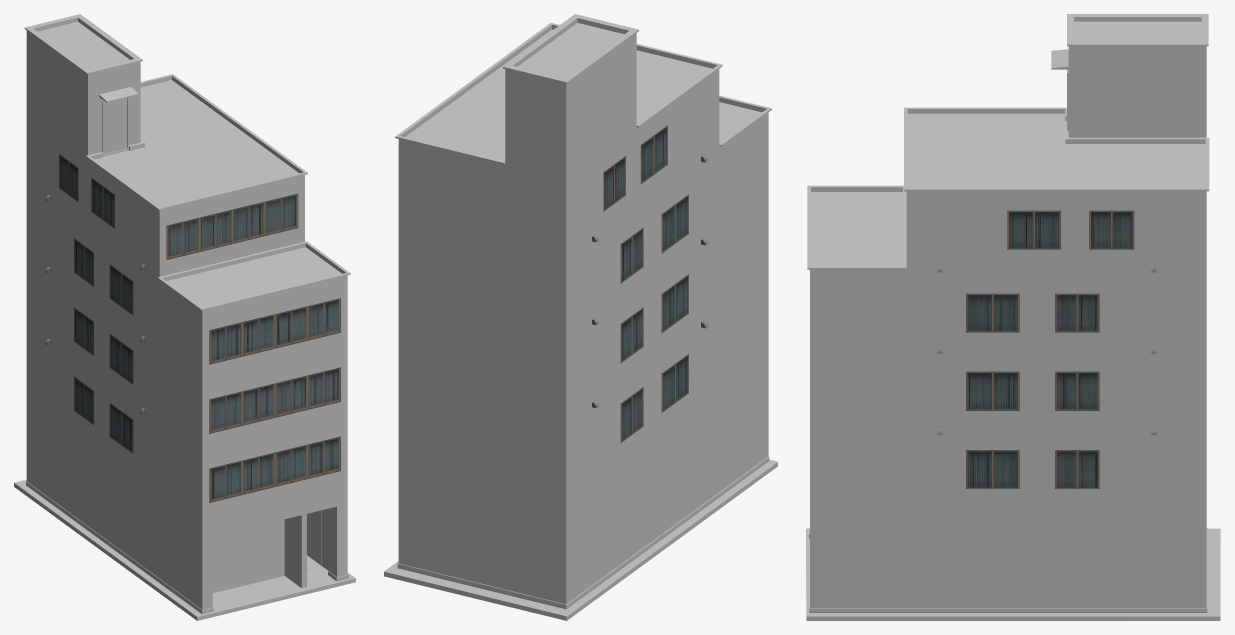
File: BldC_low.fbx
3 views of the same model, side by side, from view 1: azimuth 30°, elevation 25°; view 2: azimuth 150°, elevation 25°; view 3: azimuth 270°, elevation 25° (orthographic). The views are drawn at different scales.
Visible parts, largest first — view 1: BldC_low; view 2: BldC_low; view 3: BldC_low.
Part boxes in pixels (<box>): BldC_low: <box>14,14,355,620</box>; BldC_low: <box>384,14,777,620</box>; BldC_low: <box>806,14,1220,620</box>.
Size of the model in its own units: 600 by 1670 by 1200.
